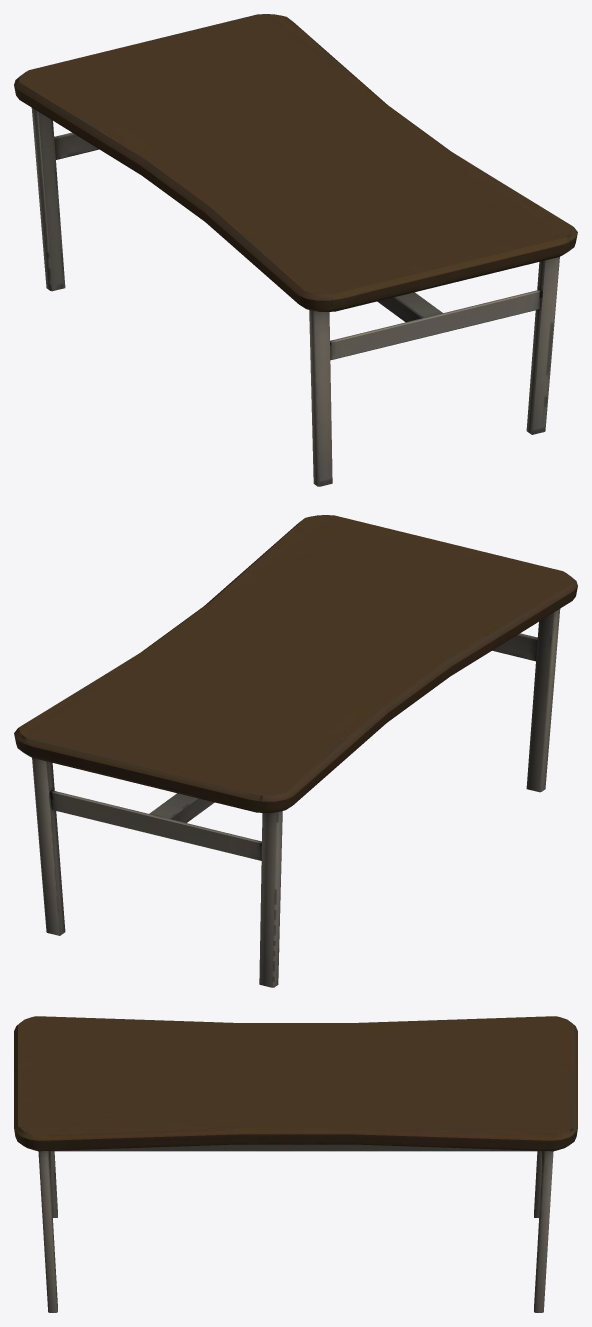
3 renders of one model, top to bottom at view 1: azimuth 30°, elevation 25°; view 2: azimuth 150°, elevation 25°; view 3: azimuth 270°, elevation 25°, orthographic. The views are drawn at different scales.
Visible parts, largest first — view 1: body0_model0_lod0_mesh0; view 2: body0_model0_lod0_mesh0; view 3: body0_model0_lod0_mesh0.
Boxes of the visible parts, bbox=[...] form: body0_model0_lod0_mesh0: bbox=[14, 14, 577, 486]; body0_model0_lod0_mesh0: bbox=[14, 515, 577, 987]; body0_model0_lod0_mesh0: bbox=[14, 1016, 577, 1312].
Size of the model in its own units: 53.46 by 37.99 by 104.
Materials: 1 (1 with a texture image).
